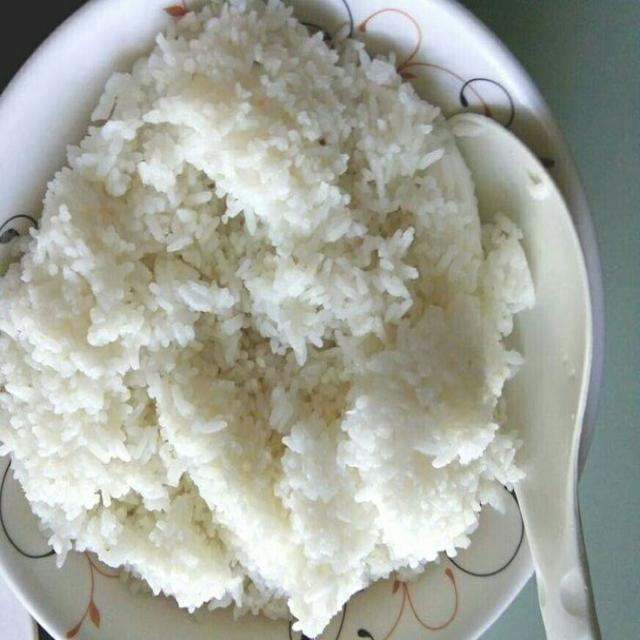rice: (0, 0, 533, 636)
